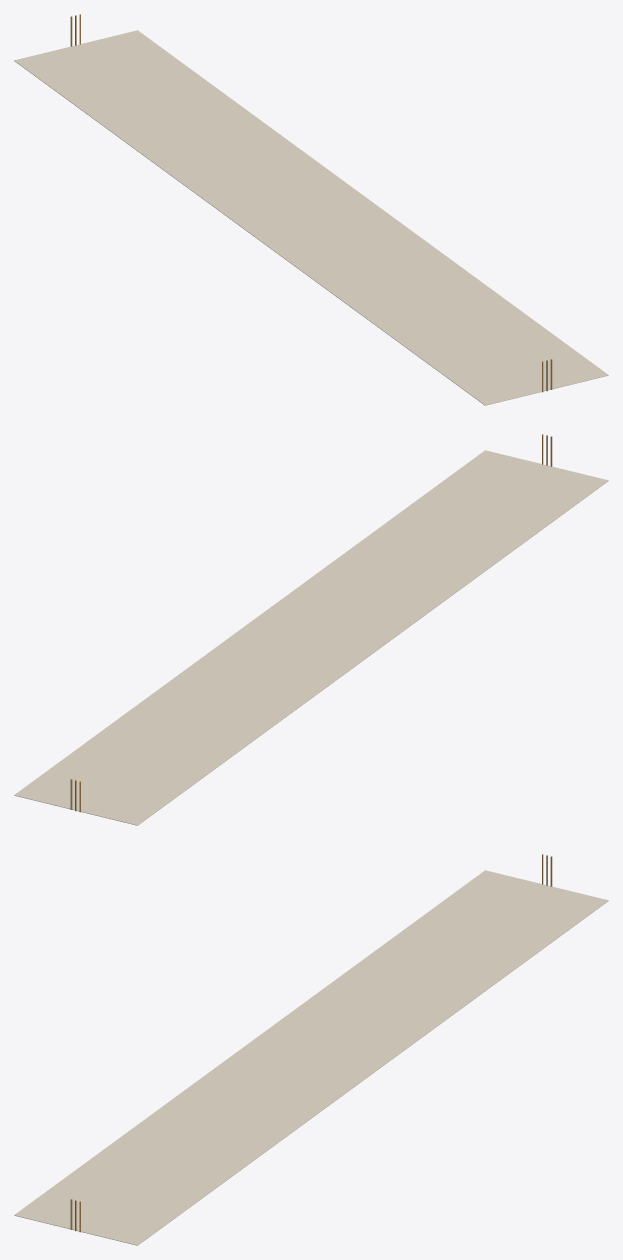
Rendered from sport.pitch.cricket.glb.
3 renders of one model, top to bottom at view 1: azimuth 30°, elevation 25°; view 2: azimuth 150°, elevation 25°; view 3: azimuth 330°, elevation 25°, orthographic.
Visible parts, largest first — view 1: main__render; view 2: main__render; view 3: main__render.
Part boxes in pixels (x1,y1,x2,y2): main__render: (14,30,608,405); main__render: (14,450,608,825); main__render: (14,870,608,1245).
Size of the model in its own units: 3.05 by 0.714 by 20.16.
